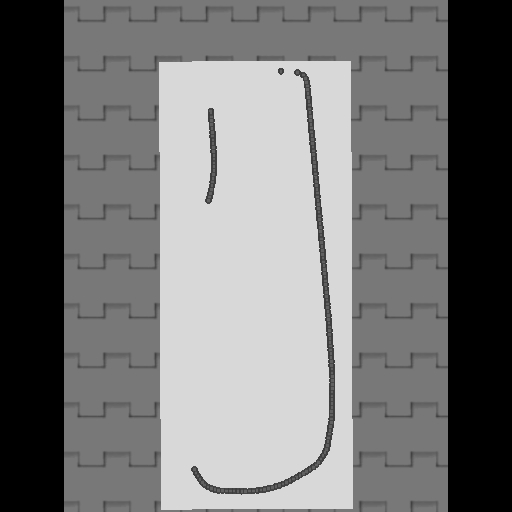Defect: (179, 204, 216, 466)
